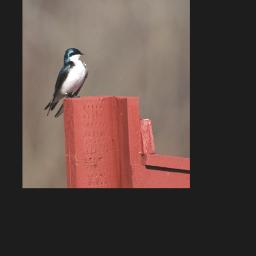Swallow: (44, 47, 89, 117)
